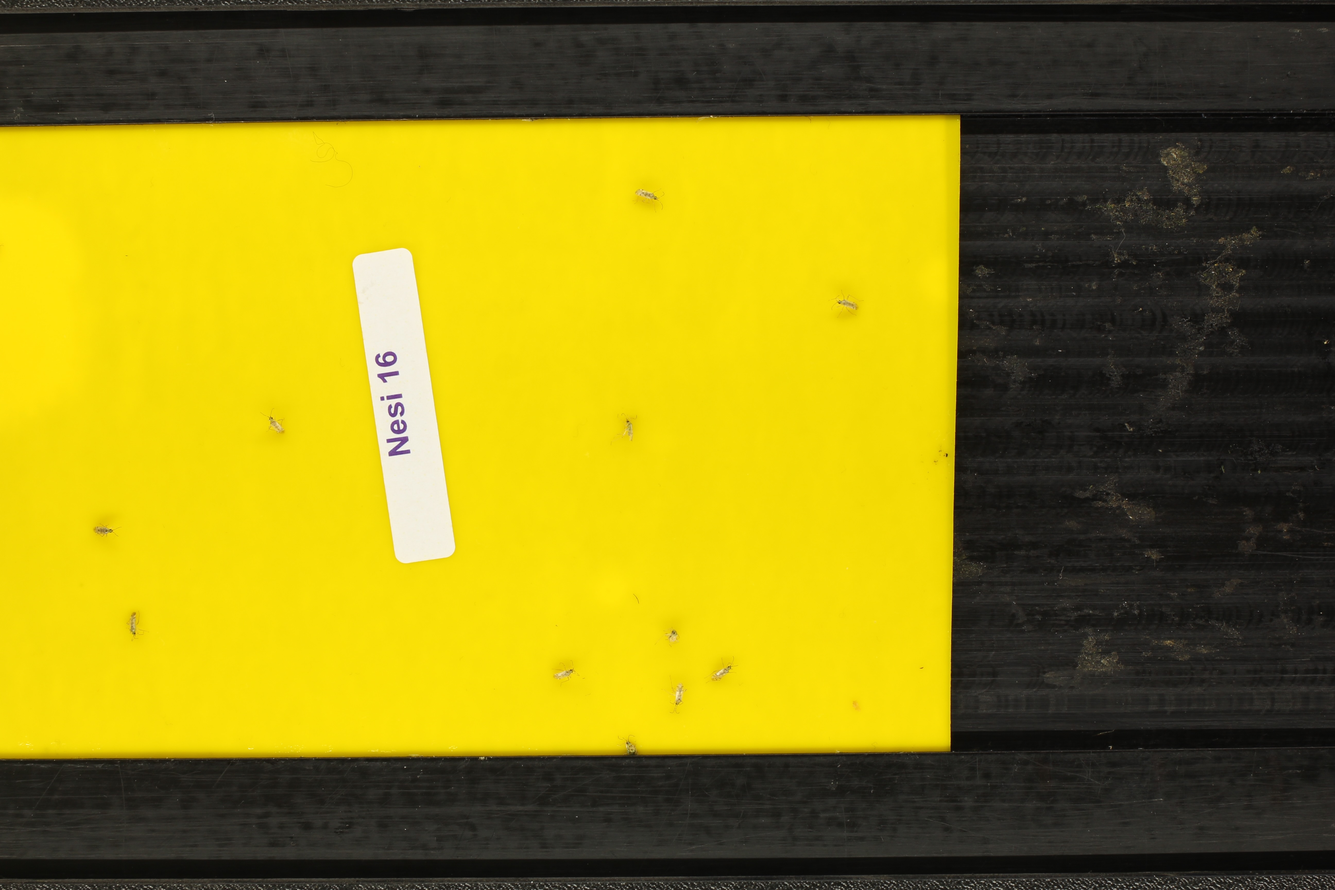NC: (703, 652, 739, 689), (664, 671, 691, 719), (629, 183, 667, 213), (549, 659, 588, 688), (123, 607, 151, 646), (254, 408, 290, 437), (828, 291, 865, 317), (611, 731, 646, 758), (88, 519, 126, 540), (659, 622, 684, 651), (615, 409, 636, 439)
